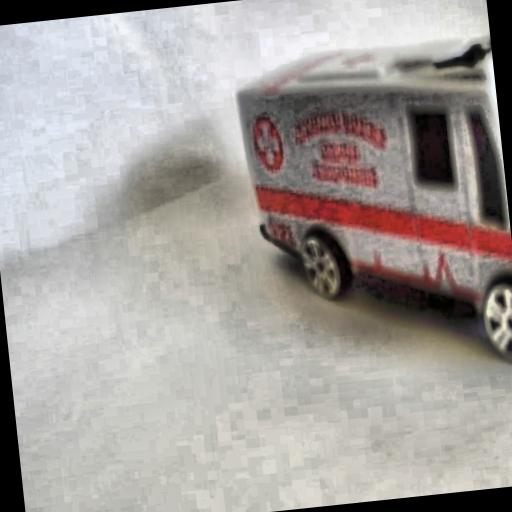ambulance: (231, 30, 512, 389)
